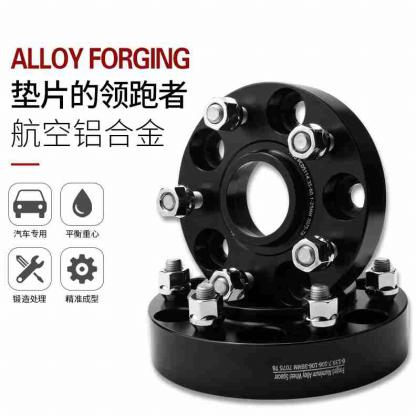FOD: (169, 78, 390, 319), (143, 252, 415, 404)
